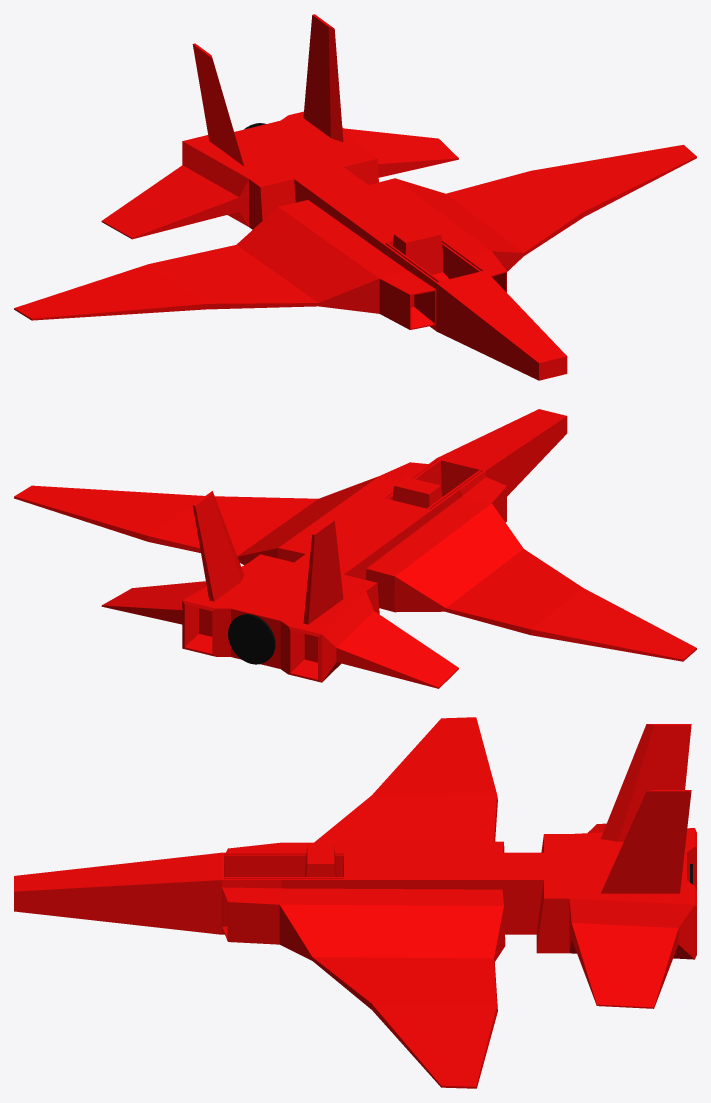
File: Enemy_Plane_Medium.fbx
3 views of the same model, one above another, from view 1: azimuth 30°, elevation 25°; view 2: azimuth 150°, elevation 25°; view 3: azimuth 270°, elevation 25° (orthographic). The views are drawn at different scales.
Visible parts, largest first — view 1: Plane_MediumTurret; view 2: Plane_MediumTurret, TurretMount; view 3: Plane_MediumTurret.
Part boxes in pixels (<box>): Plane_MediumTurret: <box>14,14,696,380</box>; Plane_MediumTurret: <box>14,409,696,688</box>; TurretMount: <box>228,614,275,664</box>; Plane_MediumTurret: <box>14,717,696,1088</box>.
Size of the model in its own units: 29.02 by 5.98 by 22.65.
